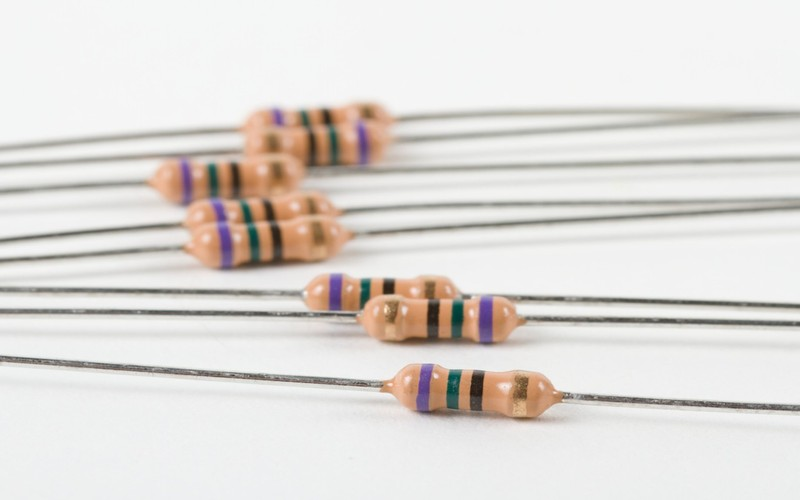Resistor: (139, 139, 379, 279), (297, 269, 542, 347), (373, 354, 569, 444), (216, 85, 418, 164)
